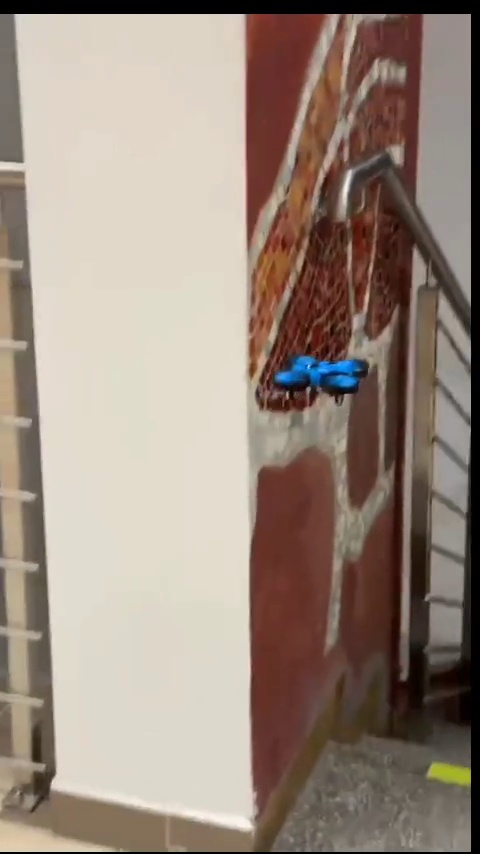drone: (268, 357, 372, 400)
